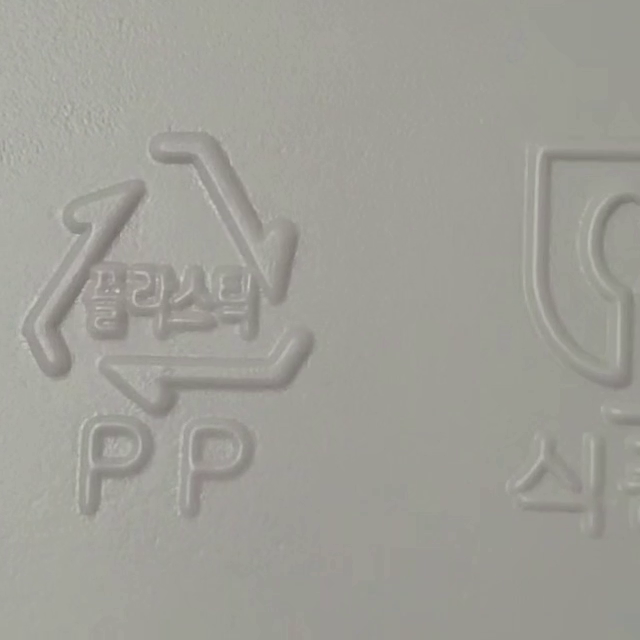Plastic: (20, 132, 309, 415)
